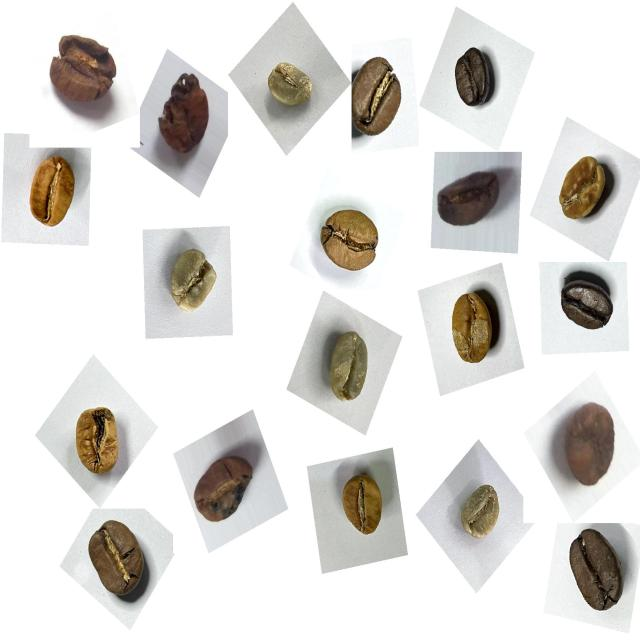bad: (40, 21, 126, 120), (186, 438, 264, 538), (550, 393, 625, 497), (150, 63, 222, 165), (433, 162, 511, 244)
dark: (552, 265, 622, 344), (444, 36, 508, 118)
green: (153, 238, 227, 327), (316, 322, 384, 418), (450, 476, 512, 553), (258, 52, 321, 122)
light: (311, 197, 392, 285), (438, 278, 509, 376), (16, 150, 88, 244), (549, 145, 619, 232), (63, 396, 129, 487), (329, 462, 394, 550)
medium: (77, 509, 159, 610), (557, 524, 636, 626), (346, 47, 414, 148)
